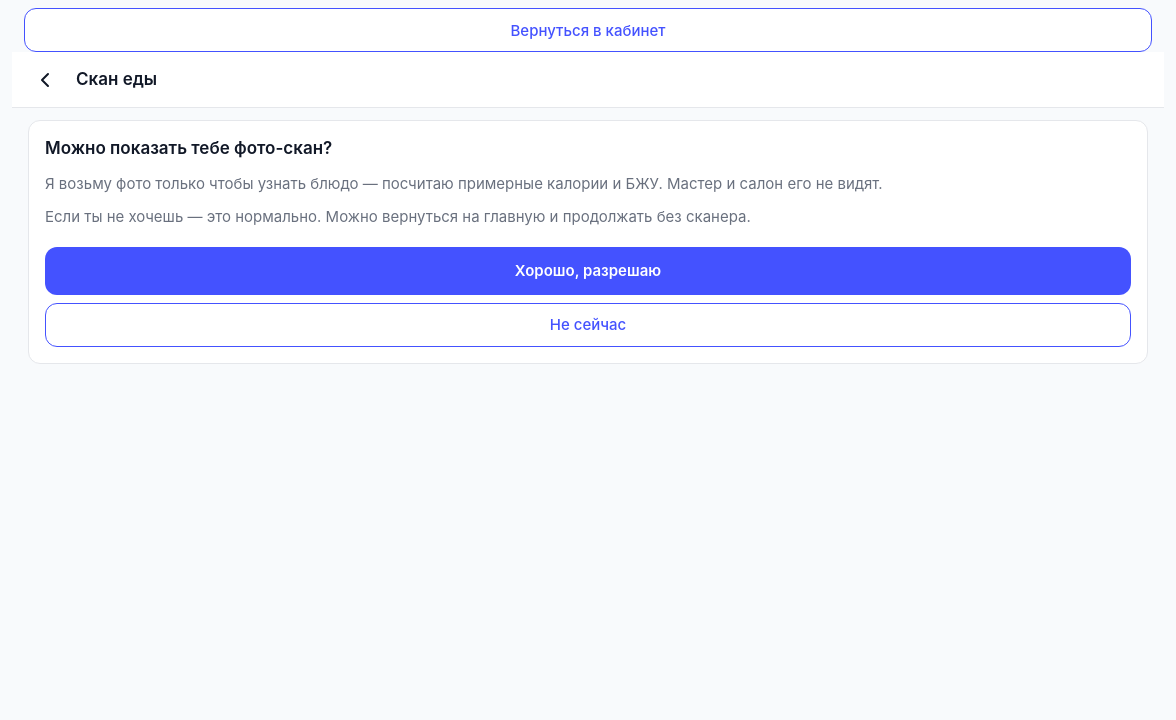
Test: сотрудник на клиентском экране по кнопке из чата › ресепшн: «Вернуться в кабинет» открывает кабинет
The image size is (1176, 720).
Expected: the button "Хорошо, разрешаю" is shown, [45,247,1131,295]
Click the button "Вернуться в кабинет".
click(588, 30)  # box [24,8,1152,52]
(page scrolled)
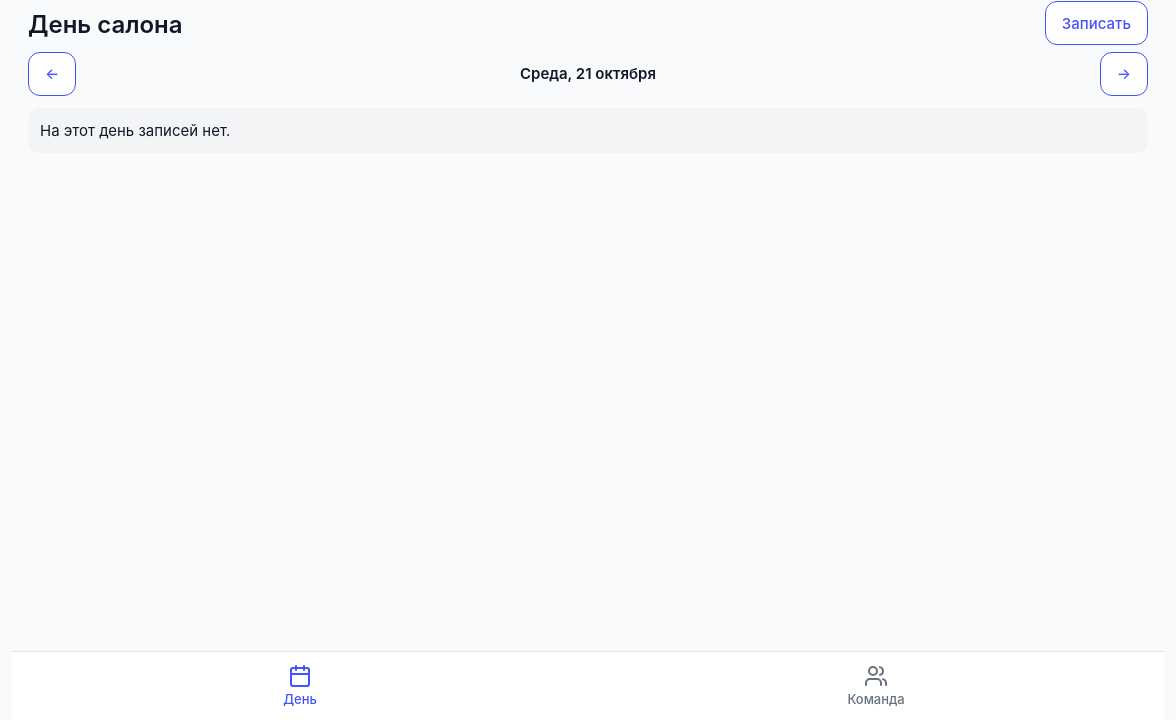
Now the button "Вернуться в кабинет" is gone
